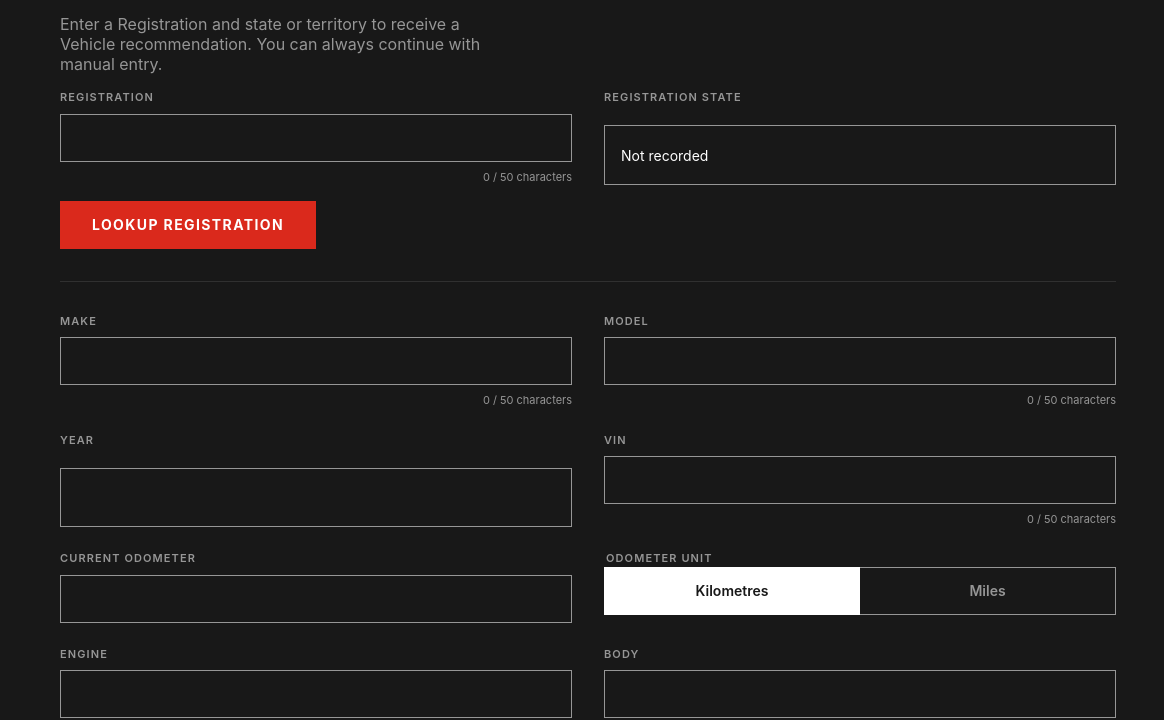
Test: Vehicle create workflow › maps authoritative Body validation to its count and accessible field error
This screenshot has width=1164, height=720.
(page scrolled)
Type "Ferrari" into the field labelled "Make".
click(316, 361); type("Ferrari")  # box [60,337,572,385]
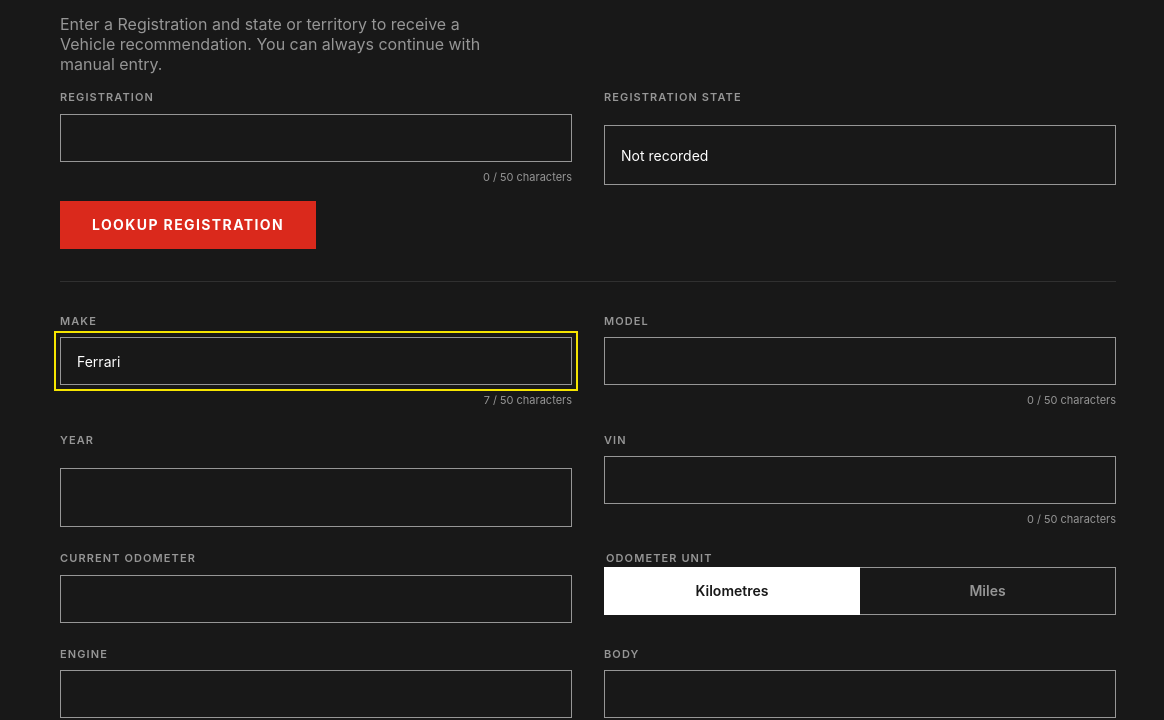
Type "Roma" into the field labelled "Model".
click(860, 361); type("Roma")  # box [604,337,1116,385]
(page scrolled)
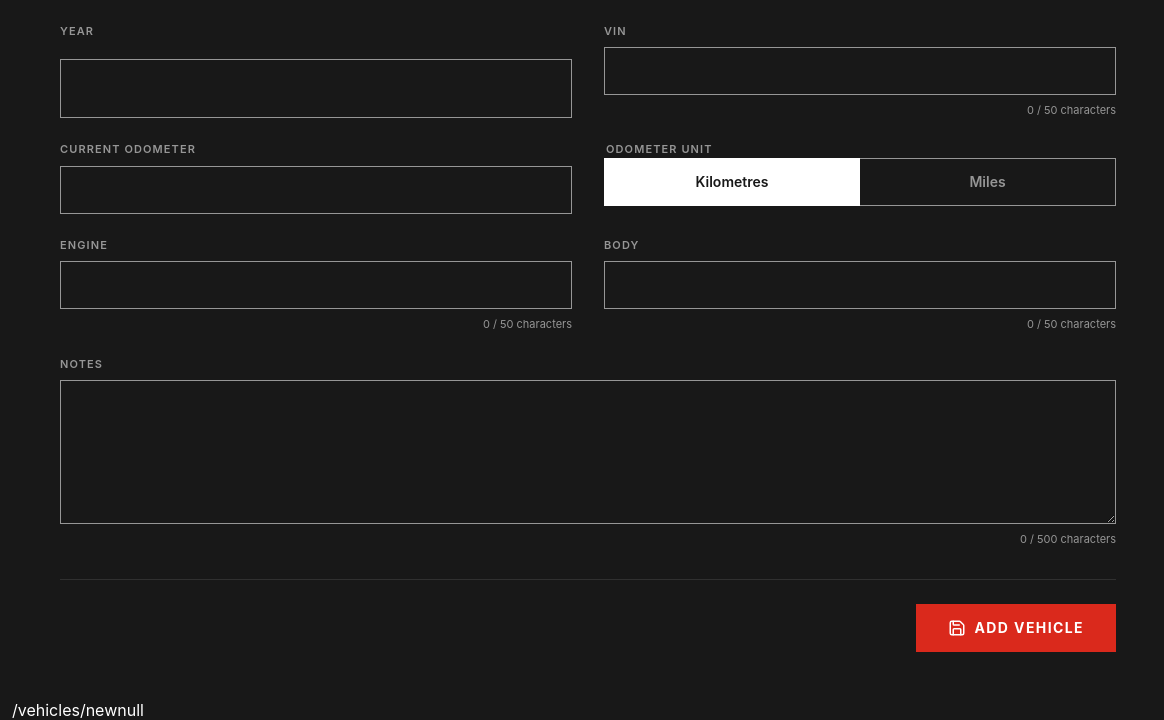
Click the button "Add Vehicle".
click(1016, 628)  # box [916,604,1116,652]
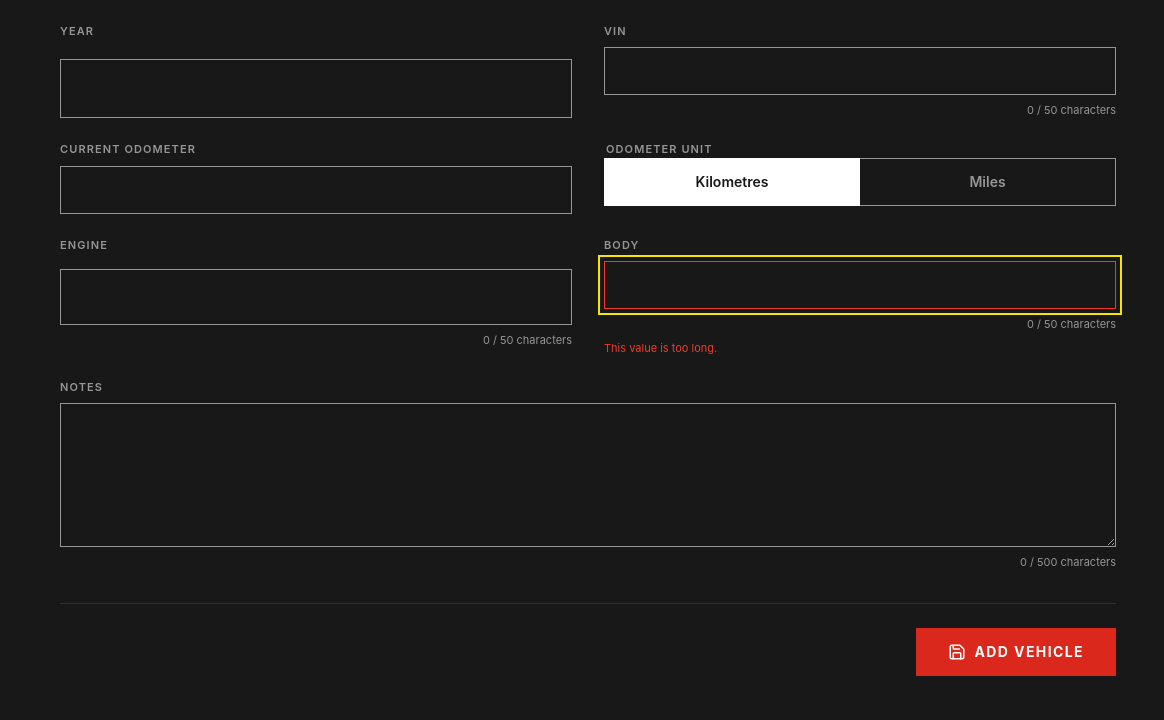
Expected: the text "This value is too long." is shown, [604,341,717,355]
